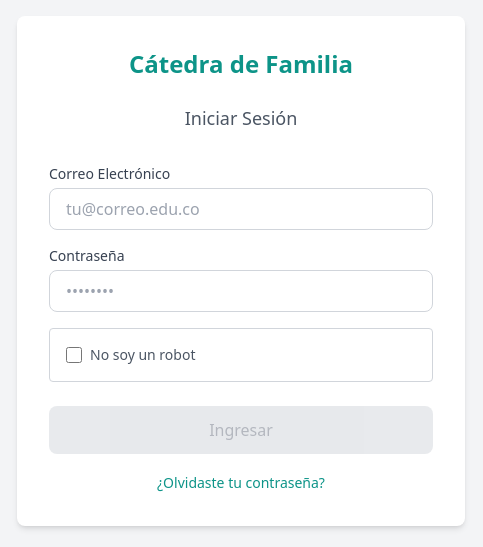
Scenario: FASE 3: Autenticación - HU-05 Inicio de Sesión › 5.2 Criterio #2: Validación de reCAPTCHA › botón debe deshabilitarse si se desmarca el reCAPTCHA
The image size is (483, 547).
Type "usuario@correo.com" into the field with test id "email-input" at (241, 209), box [49,188,433,230]
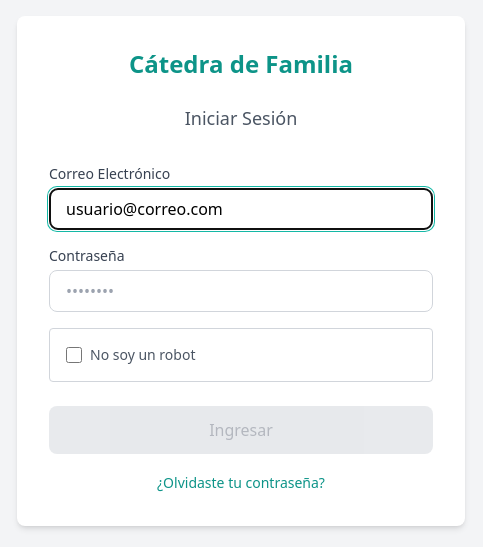
Type "password123" into the password field with test id "password-input" at (241, 291), box [49,270,433,312]
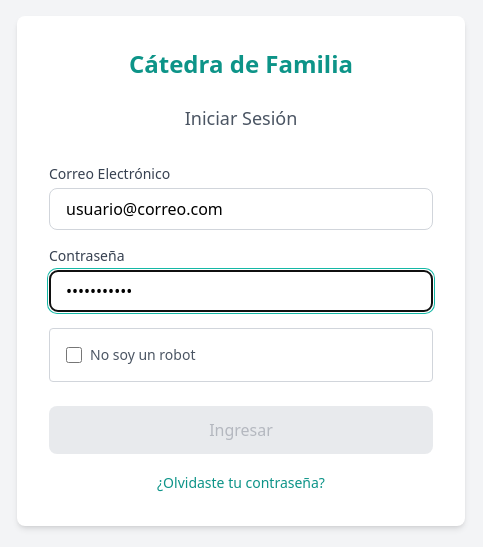
Click the element with test id "recaptcha" at (241, 355), box [49,328,433,382]
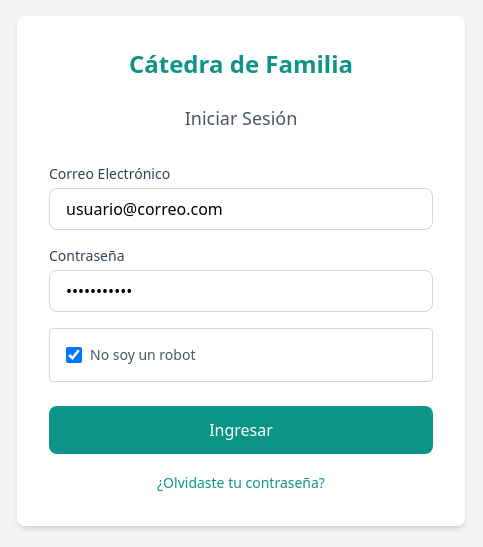
expect the element with test id "login-button" is enabled: met
Click the element with test id "recaptcha" at (241, 355), box [49,328,433,382]
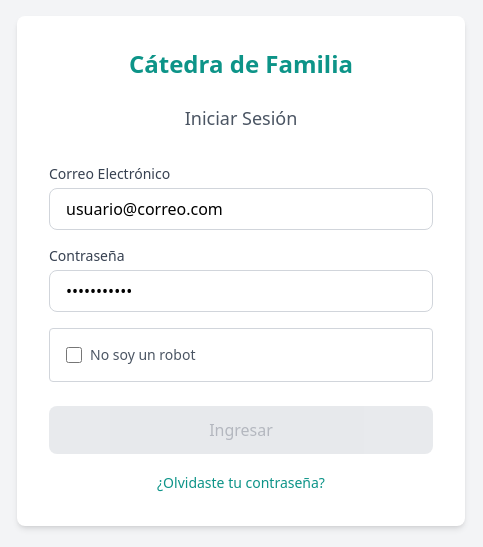
expect the button with test id "login-button" is disabled: met, box [49,406,433,454]
